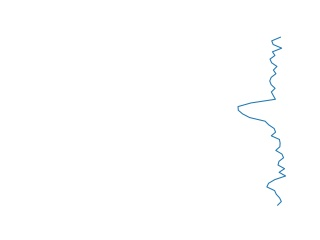interdistributaryEstuary: (233, 35, 296, 207)
